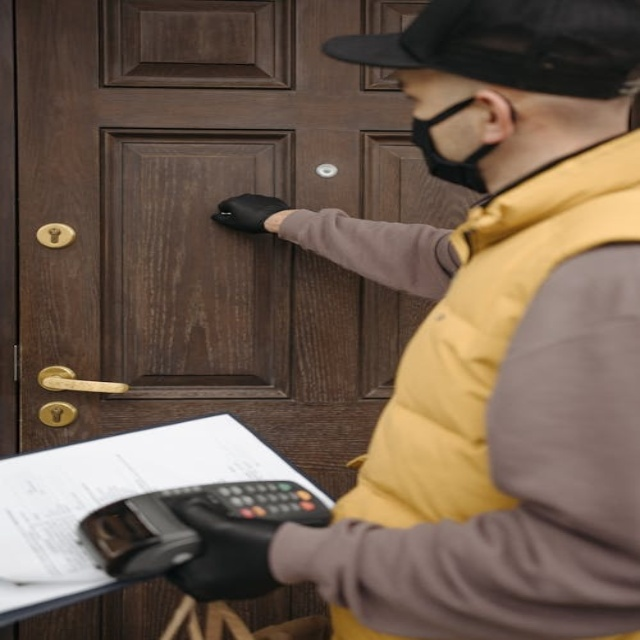Guantes: (161, 498, 310, 603), (211, 193, 292, 235)
Mascara: (411, 97, 509, 193)
Sin_gafas: (393, 73, 457, 106)
